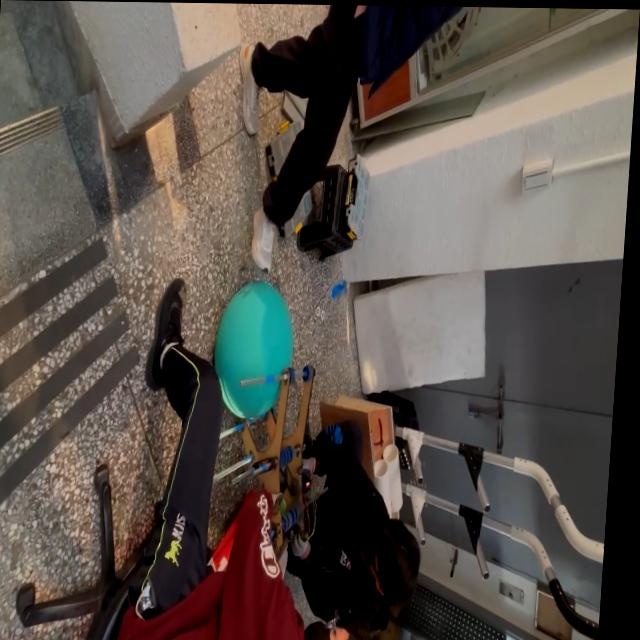ALGAE: (207, 277, 299, 422)
